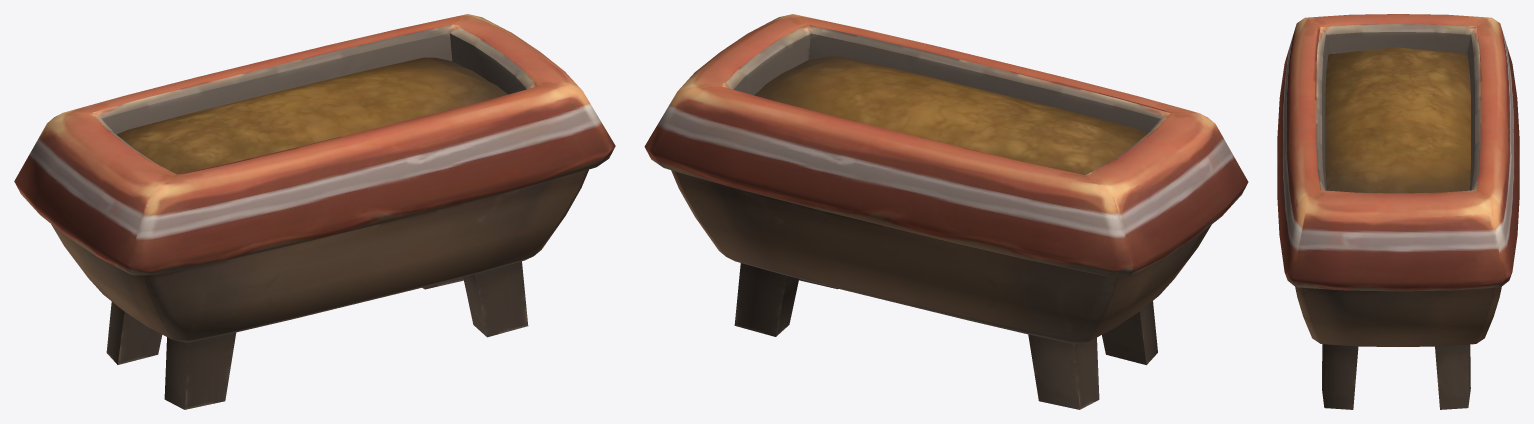
The model's file is DE_Flowerpot_05.fbx.
The picture shows the model from 3 angles, left to right: view 1: azimuth 30°, elevation 25°; view 2: azimuth 150°, elevation 25°; view 3: azimuth 270°, elevation 25°; orthographic projection. The views are drawn at different scales.
Visible parts, largest first — view 1: DE_Flowerpot_05; view 2: DE_Flowerpot_05; view 3: DE_Flowerpot_05.
Part boxes in pixels (box(x1,y1,x2,y2)): DE_Flowerpot_05: box(14, 14, 615, 409); DE_Flowerpot_05: box(644, 14, 1248, 409); DE_Flowerpot_05: box(1277, 14, 1519, 409).
Bounding box in the file's own units: 2.8 × 1.27 × 1.26.
